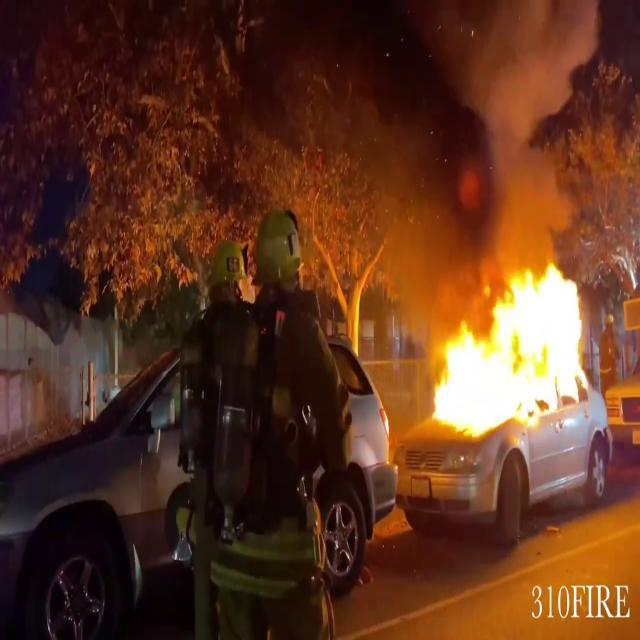Fire: (415, 248, 595, 436)
Smoke: (330, 0, 620, 284)
